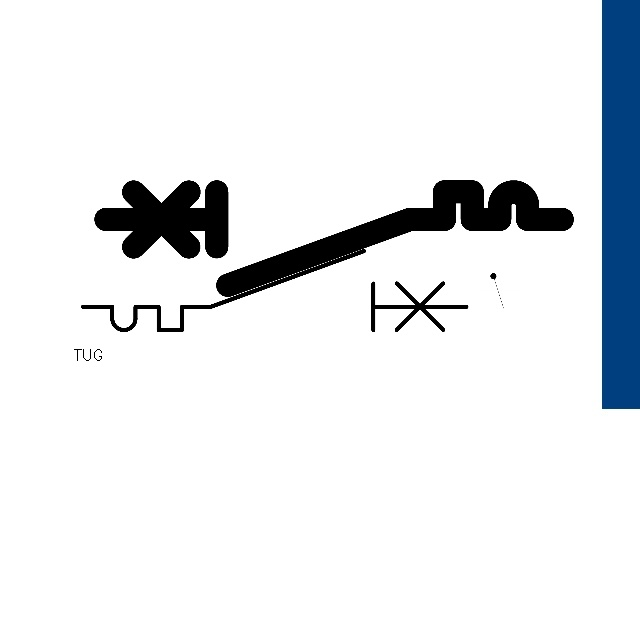interruptor_termomagnetico: (94, 180, 574, 297), (73, 241, 476, 340)
